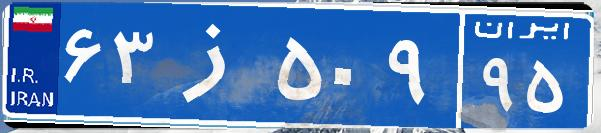0: (330, 28, 385, 110)
3: (110, 28, 158, 105)
5: (273, 28, 330, 110), (525, 38, 570, 115)
6: (57, 26, 110, 107)
9: (385, 28, 445, 110), (475, 38, 525, 113)
ز: (158, 15, 273, 115)
